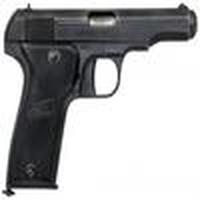gun: (2, 3, 197, 196)
